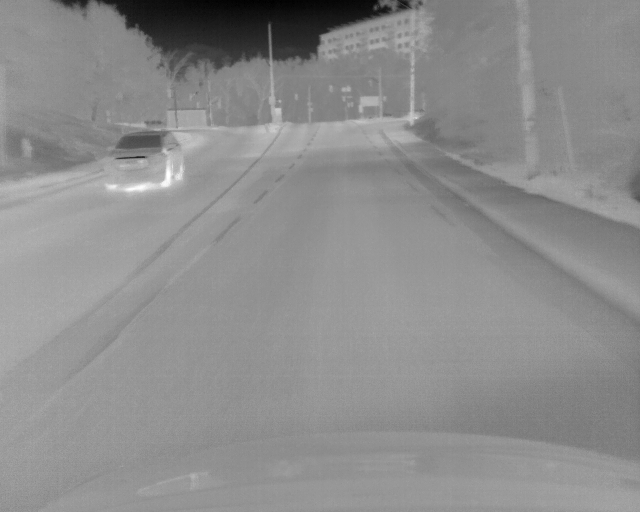car: (104, 130, 186, 192)
